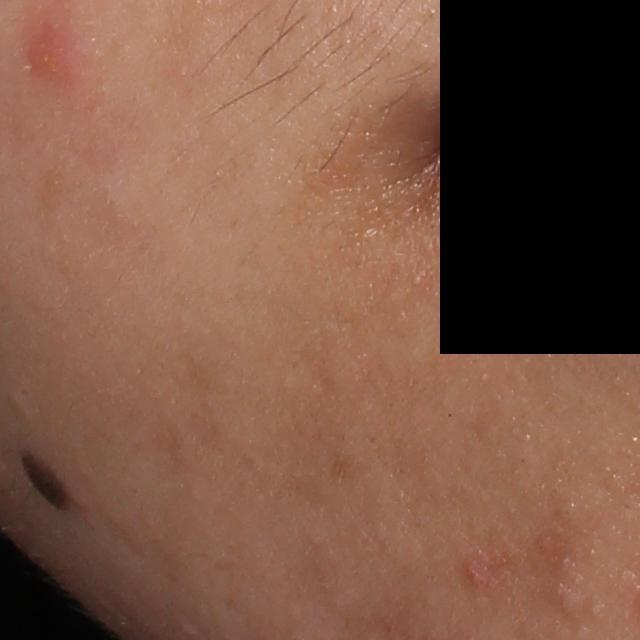comedo: (6, 393, 32, 419)
nevus: (15, 448, 75, 513)
papule: (29, 28, 69, 74), (466, 557, 494, 594)
